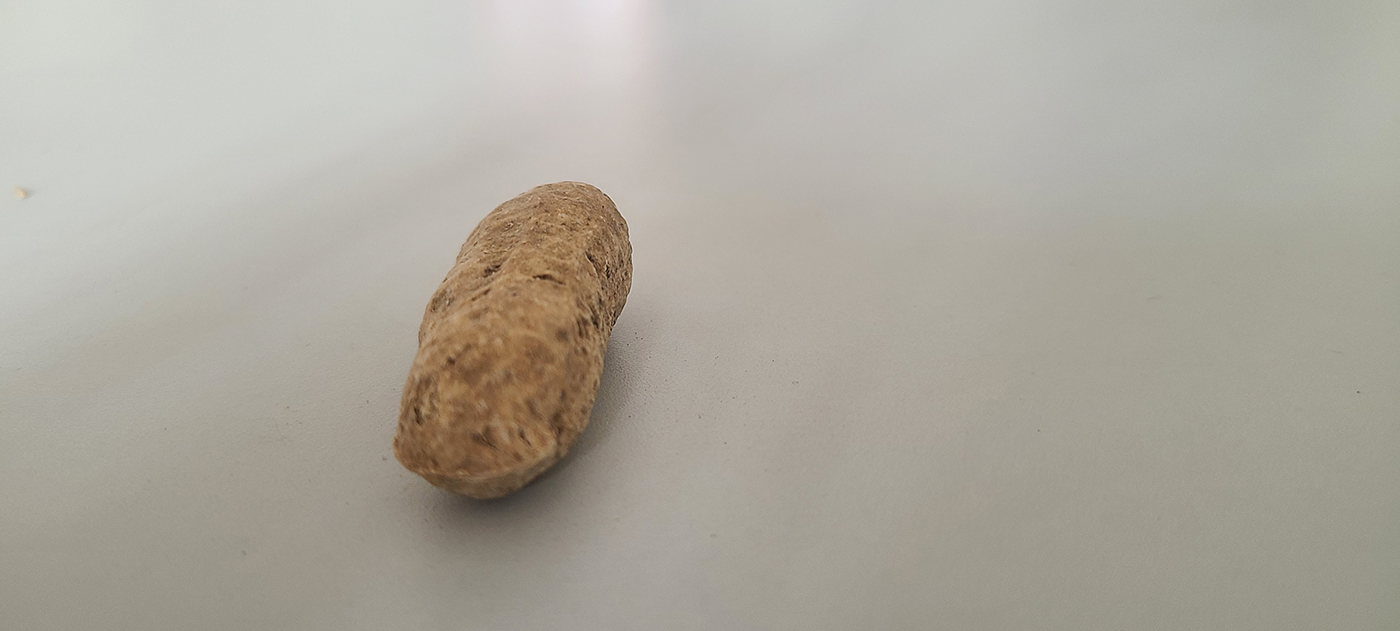h: (390, 179, 636, 503)
